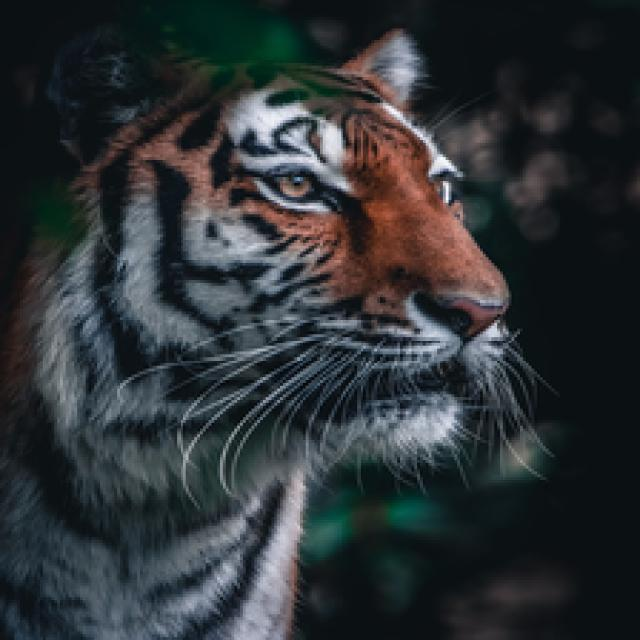tiger: (7, 11, 512, 640)
